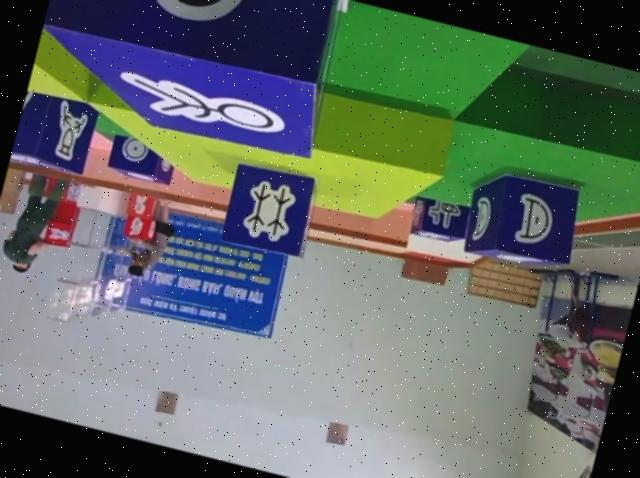R2 Real Blue: (26, 0, 350, 166), (458, 164, 587, 278), (222, 155, 325, 259), (10, 88, 98, 178), (107, 134, 180, 188), (408, 195, 474, 248)
